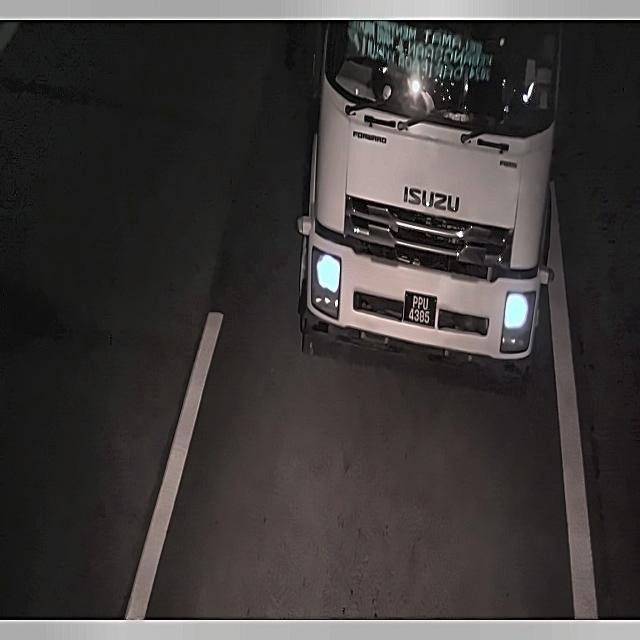car: (402, 286, 442, 332)
